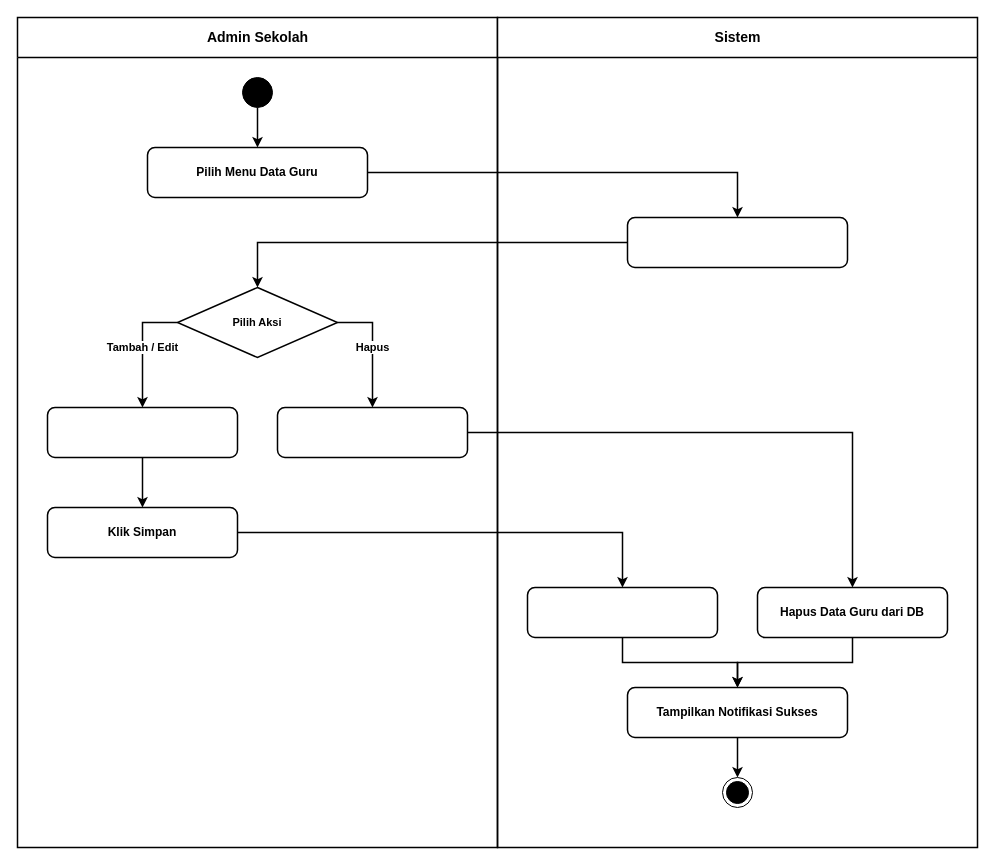
This 996x866 diagram has some shape labels left out. Here are the shapes that lost their labels. From the top down, the centre of each, then its label:
the point at 737,242: Tampilkan Daftar Guru
the point at 142,432: Input Form Data Guru
the point at 372,432: Konfirmasi Hapus Guru
the point at 622,612: Simpan Data Guru ke DB
